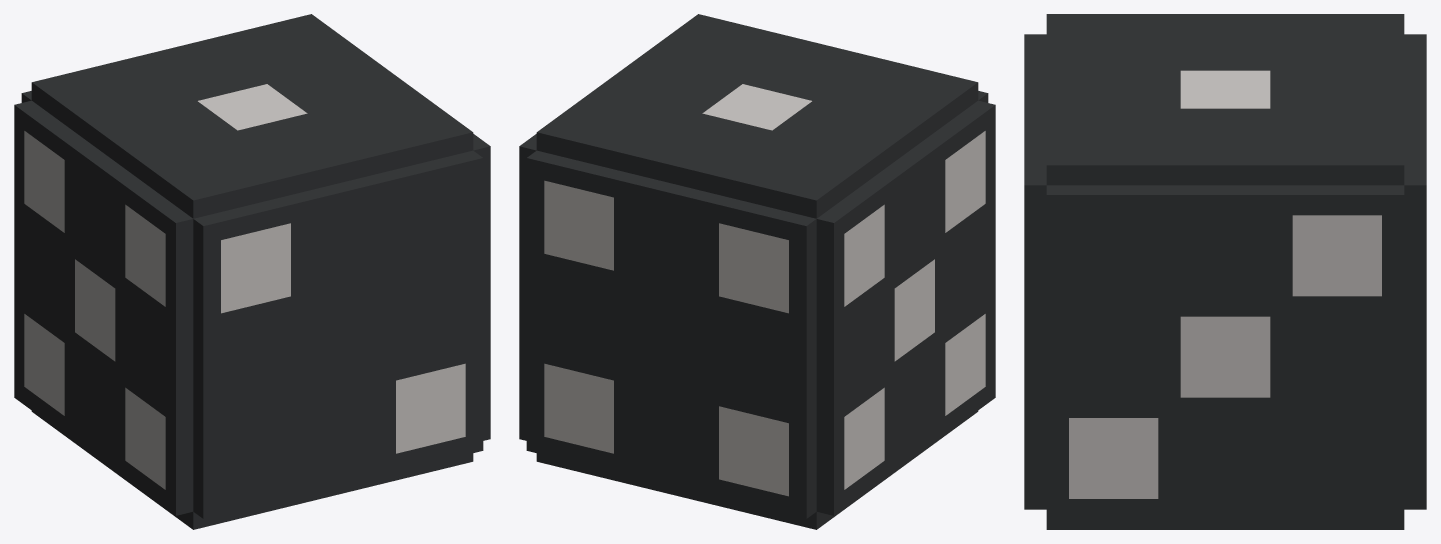
File: dice-v2-black-white.gltf
The picture shows the model from 3 angles, left to right: view 1: azimuth 30°, elevation 25°; view 2: azimuth 150°, elevation 25°; view 3: azimuth 270°, elevation 25°; orthographic projection. The views are drawn at different scales.
Visible parts, largest first — view 1: Untitled; view 2: Untitled; view 3: Untitled.
Part boxes in pixels (x1,y1,x2,y2): Untitled: (14, 14, 490, 529); Untitled: (519, 14, 995, 529); Untitled: (1024, 14, 1426, 529).
Size of the model in its own units: 1.8 by 1.8 by 1.8.
1 material, 1 textured.
